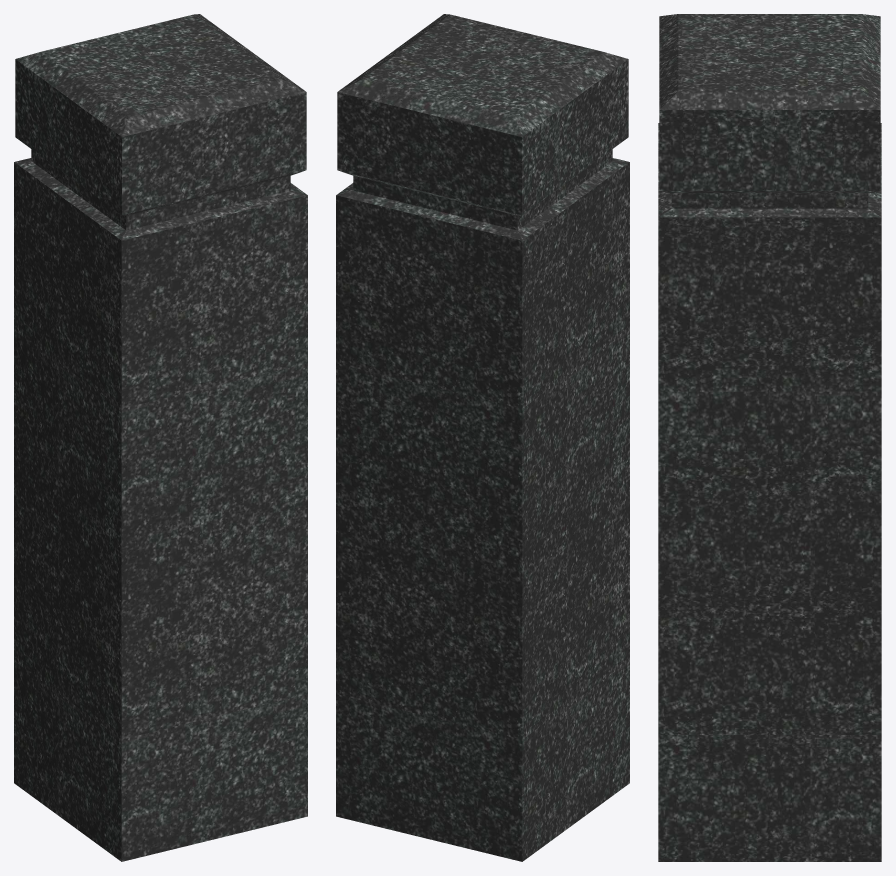
File: grave_sodeishi.fbx
The picture shows the model from 3 angles, left to right: view 1: azimuth 30°, elevation 25°; view 2: azimuth 150°, elevation 25°; view 3: azimuth 270°, elevation 25°; orthographic projection. The views are drawn at different scales.
Parts seen in each view (by area): view 1: piller; view 2: piller; view 3: piller.
Boxes of the visible parts, bbox=[...] form: piller: bbox=[14, 14, 307, 861]; piller: bbox=[336, 14, 629, 861]; piller: bbox=[658, 14, 881, 861].
Bounding box in the file's own units: 0.1574 × 0.5928 × 0.1574.
